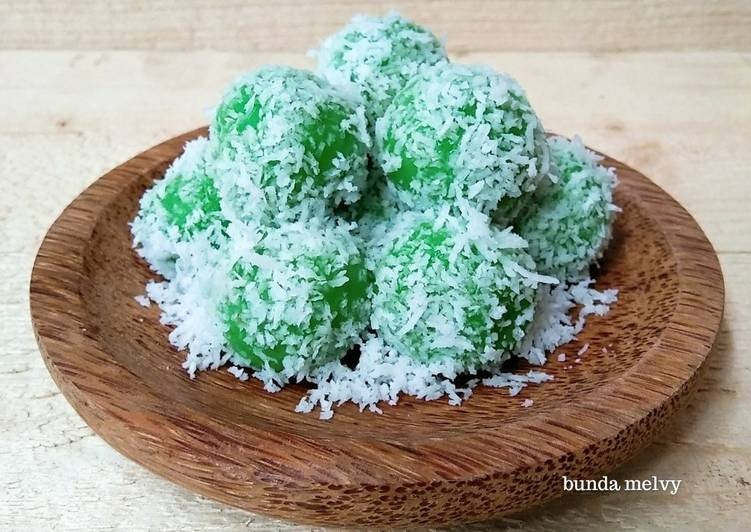klepon: (141, 38, 366, 220), (206, 202, 380, 436), (349, 63, 571, 223), (384, 212, 556, 389)
